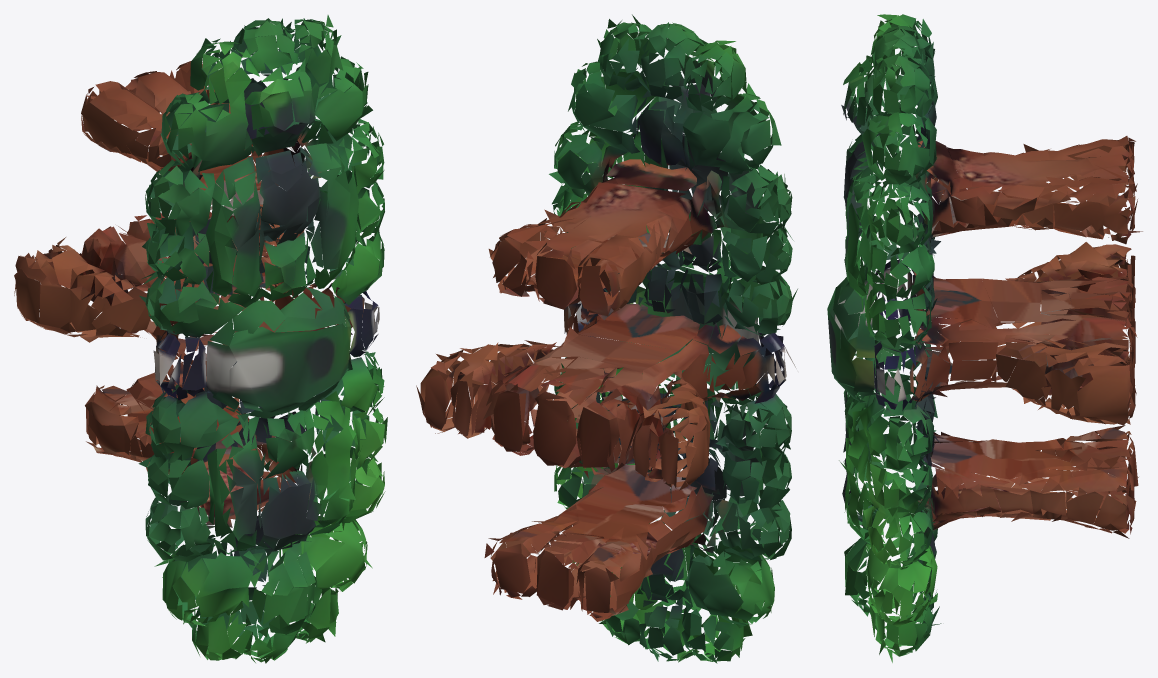
Rendered from tree.glb.
The picture shows the model from 3 angles, left to right: view 1: azimuth 30°, elevation 25°; view 2: azimuth 150°, elevation 25°; view 3: azimuth 270°, elevation 25°; orthographic projection. The views are drawn at different scales.
Parts seen in each view (by area): view 1: BeastTree; view 2: BeastTree; view 3: BeastTree.
Part boxes in pixels (x1,y1,x2,y2): BeastTree: (14, 15, 387, 663); BeastTree: (416, 14, 797, 663); BeastTree: (827, 14, 1142, 662).
Bounding box in the file's own units: 0.8651 × 1.91 × 0.8815.
1 material, 1 textured.
